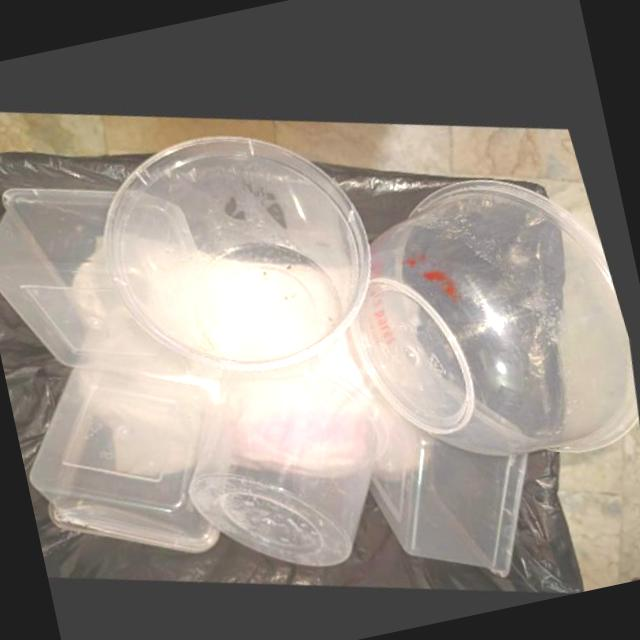hop_nhua: (357, 168, 639, 447), (109, 128, 376, 366), (0, 185, 221, 370), (194, 365, 392, 562), (33, 364, 223, 551), (370, 398, 530, 569)
